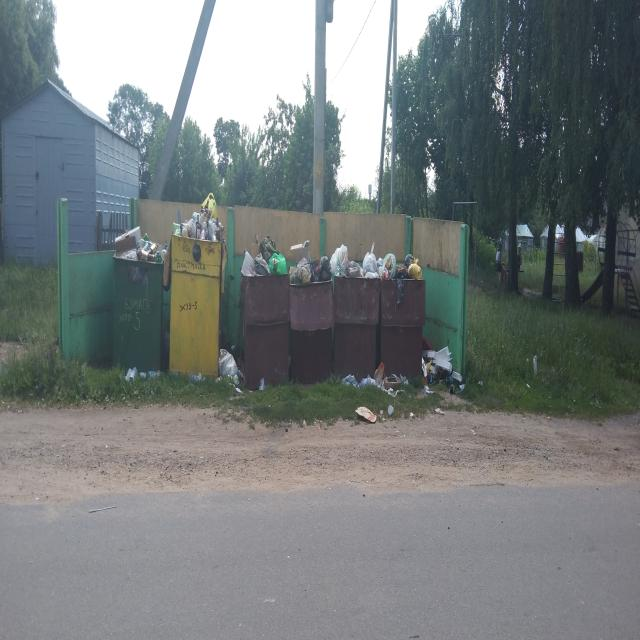bin: (172, 234, 223, 382), (111, 244, 166, 380), (239, 266, 292, 394), (383, 272, 426, 389), (340, 270, 378, 392), (295, 274, 333, 392)
trash: (290, 230, 333, 286), (336, 235, 378, 281), (382, 239, 419, 281), (242, 226, 285, 261)
